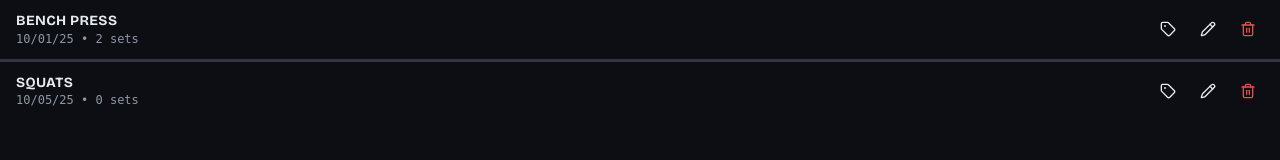
Test case: ExerciseManager › edit exercise › enters edit mode when edit button clicked
The width and height of the screenshot is (1280, 160).
Click the button named "Edit name" in the row of "10/01/25 • 2 sets" at point(1208, 29), box [1192,13,1224,45]
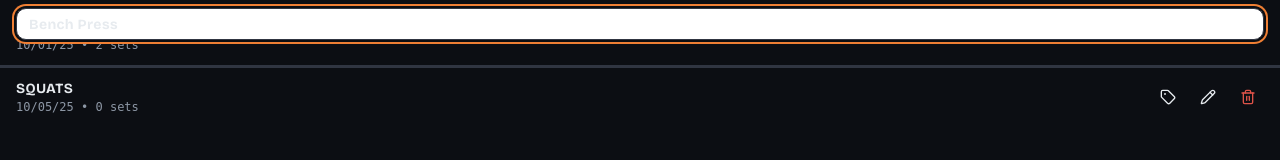
Expected: the field showing "Bench Press" is shown, [16,8,1264,40]
